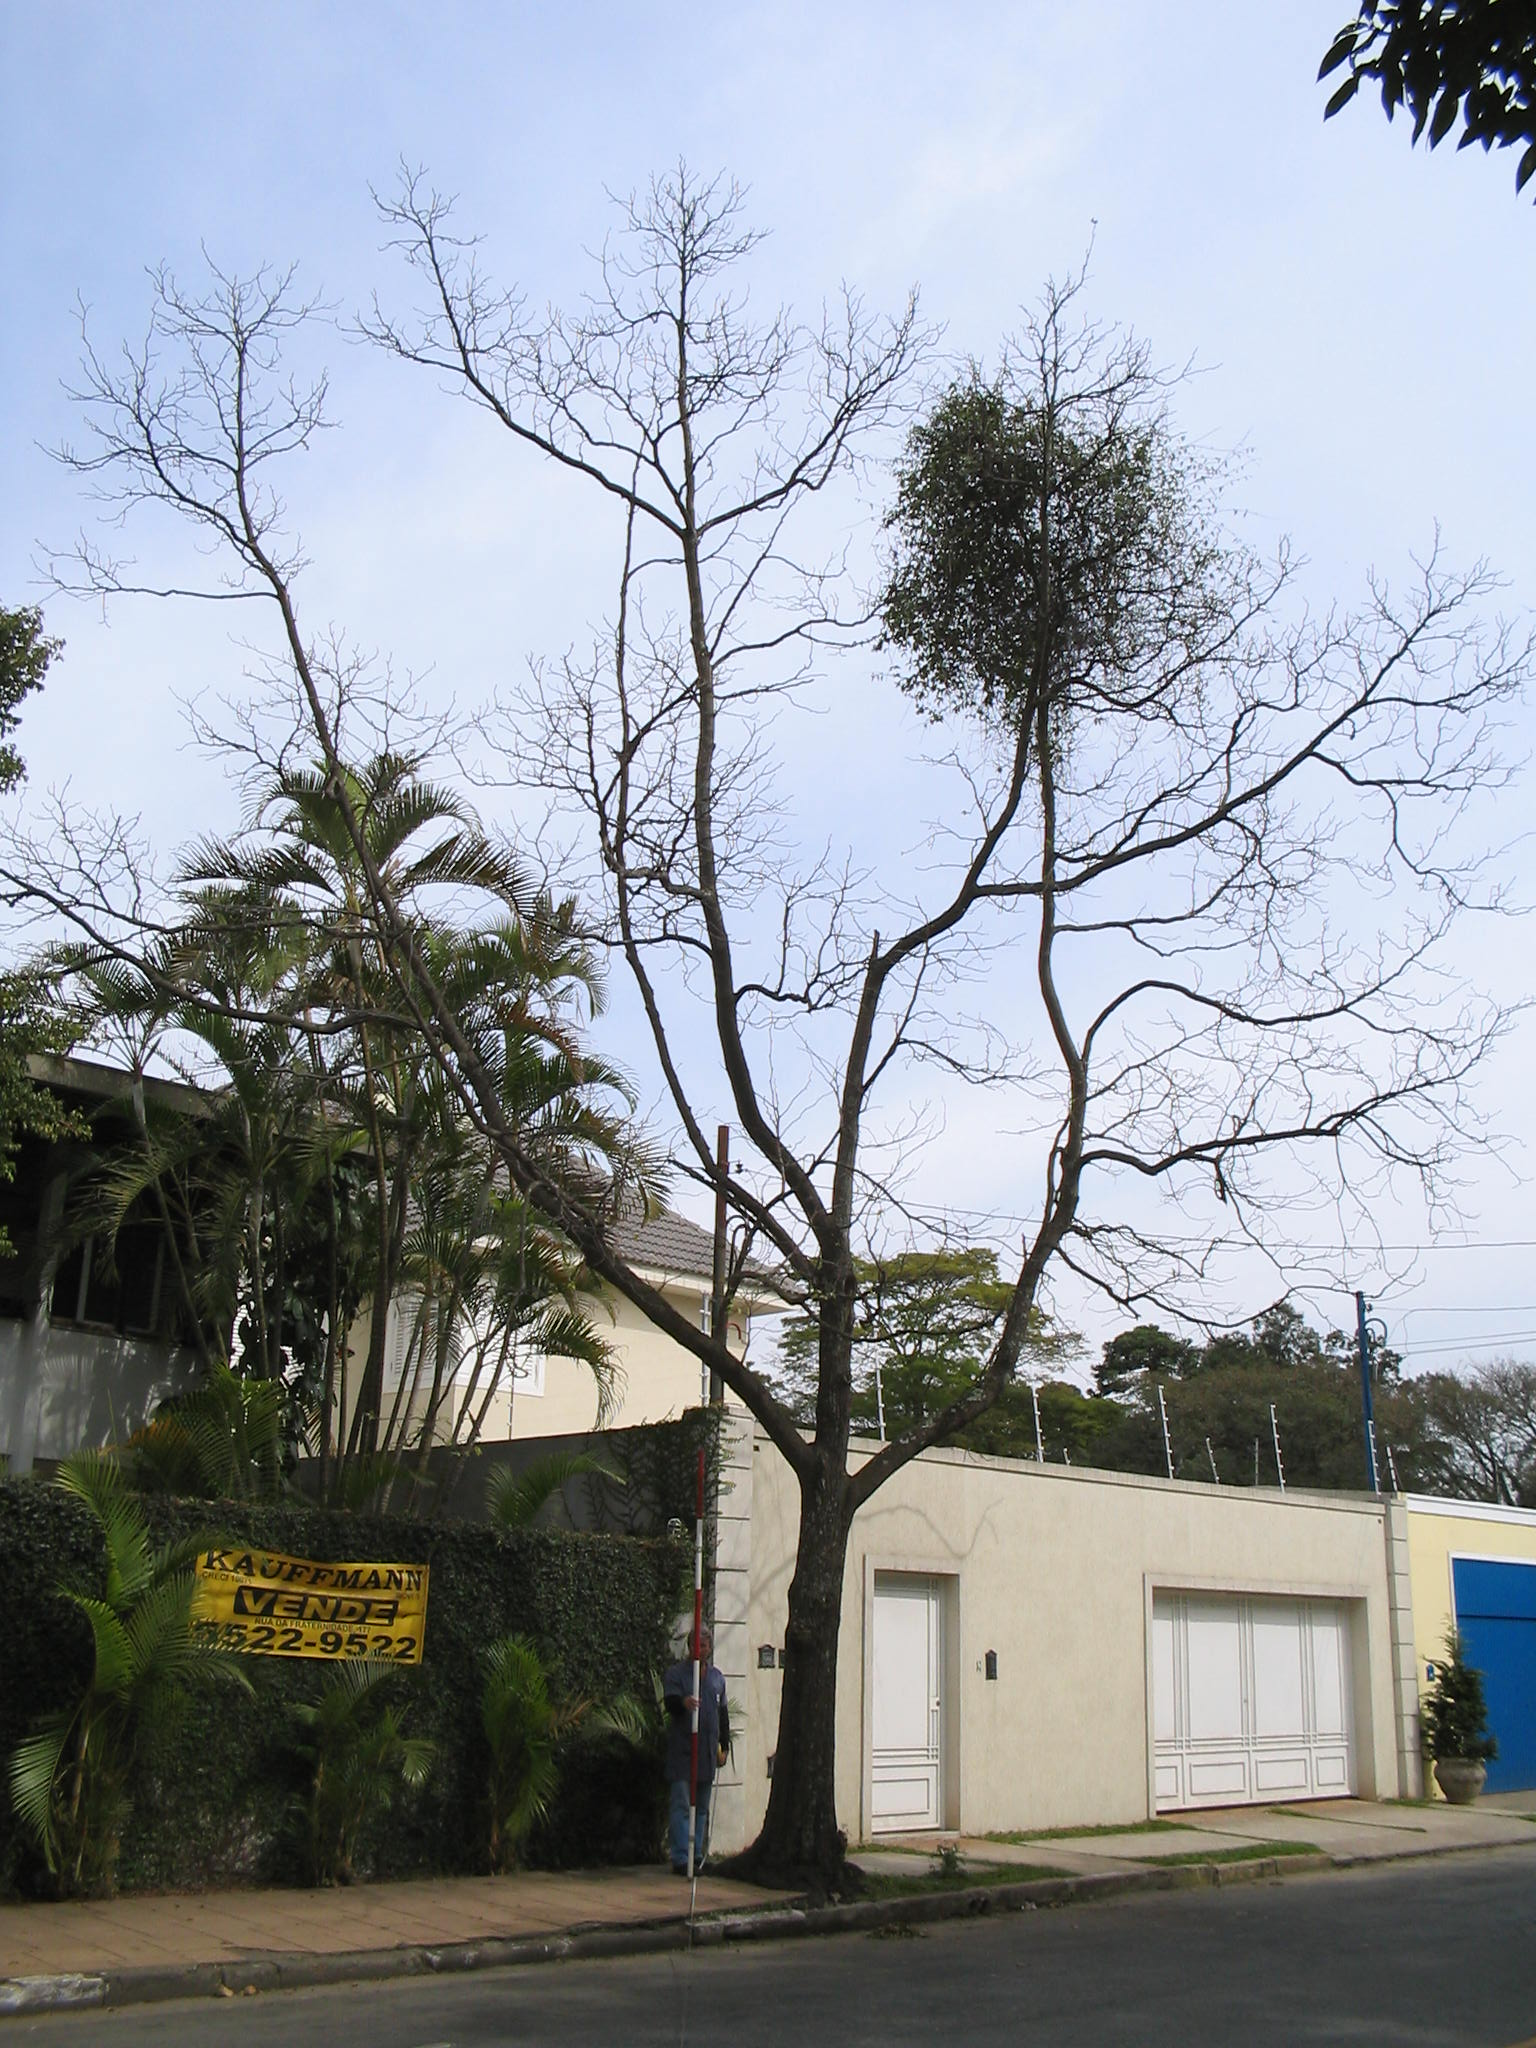stem: (731, 1484, 894, 1882)
stick: (662, 1445, 739, 1882)
tree: (44, 168, 1523, 1887)
